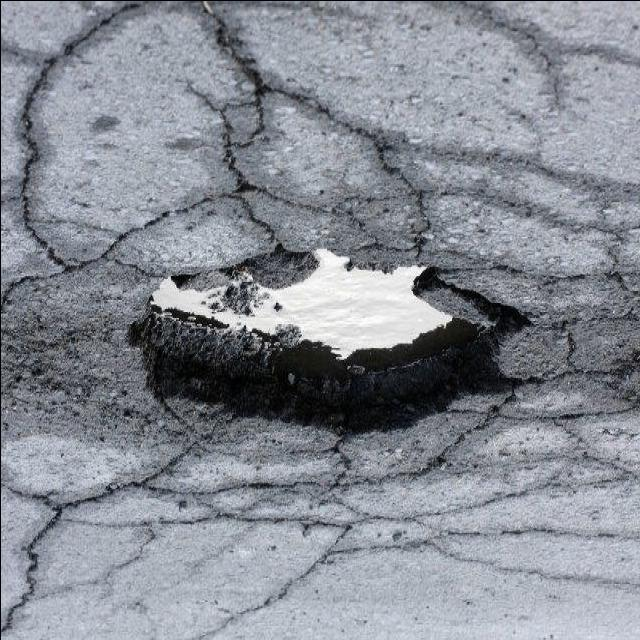jalan retak: (0, 0, 526, 289), (0, 458, 390, 546), (514, 220, 638, 430), (168, 516, 366, 640), (370, 122, 640, 212), (448, 0, 639, 120), (393, 532, 639, 610), (280, 494, 482, 576), (52, 508, 190, 610), (296, 442, 492, 510), (467, 429, 639, 500), (0, 486, 76, 640), (438, 238, 562, 324), (440, 514, 640, 558)
lubang: (103, 215, 551, 443)
